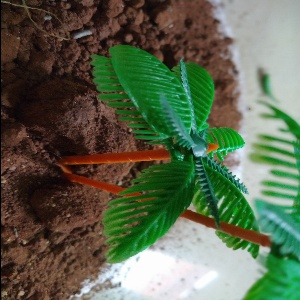plant: (56, 43, 299, 300)
